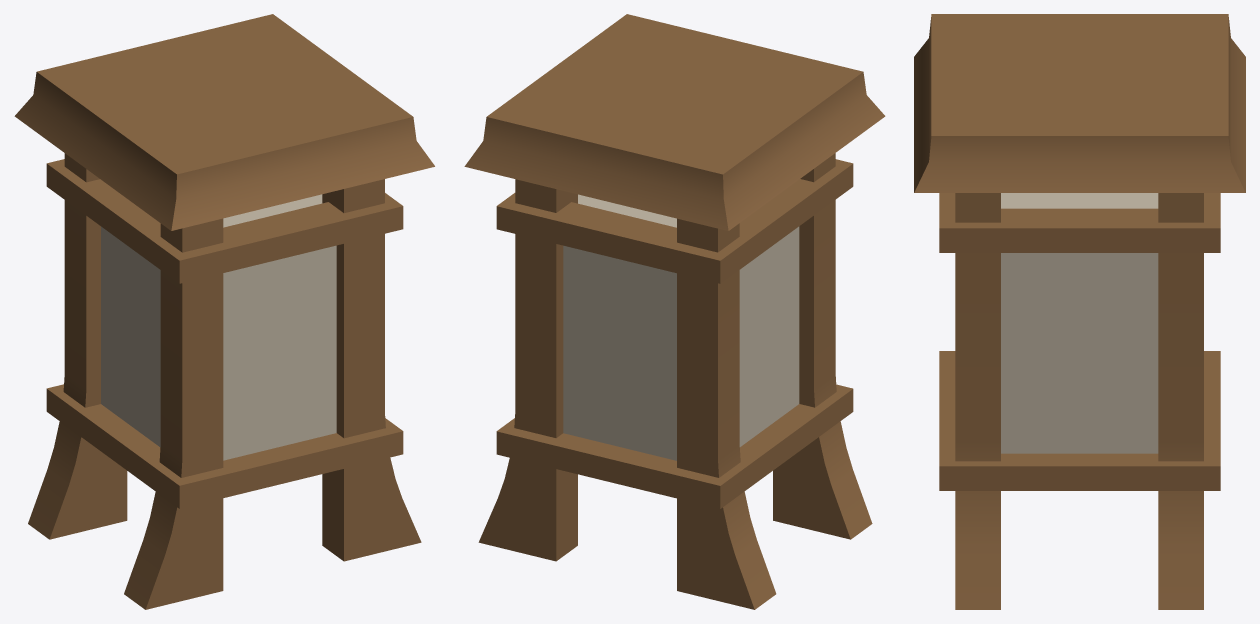
File: lantern.glb
3 views of the same model, side by side, from view 1: azimuth 30°, elevation 25°; view 2: azimuth 150°, elevation 25°; view 3: azimuth 270°, elevation 25° (orthographic). The views are drawn at different scales.
Parts seen in each view (by area): view 1: Decoration_Light; view 2: Decoration_Light; view 3: Decoration_Light.
Boxes of the visible parts, x1,y1,x2,y2 form: Decoration_Light: [14, 14, 434, 609]; Decoration_Light: [464, 14, 885, 609]; Decoration_Light: [914, 14, 1245, 609].
Size of the model in its own units: 0.8944 by 1.36 by 0.8801.
